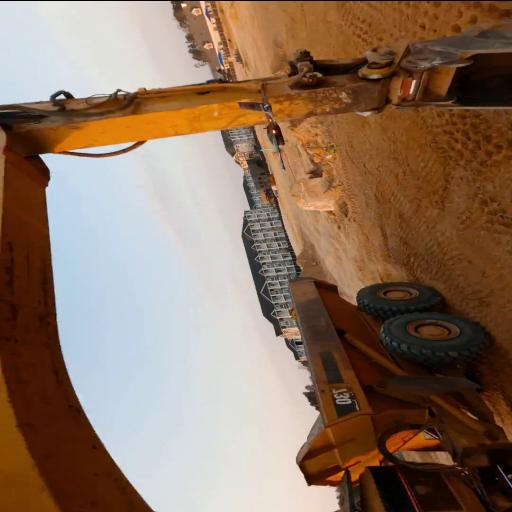uav: (234, 86, 294, 168)
